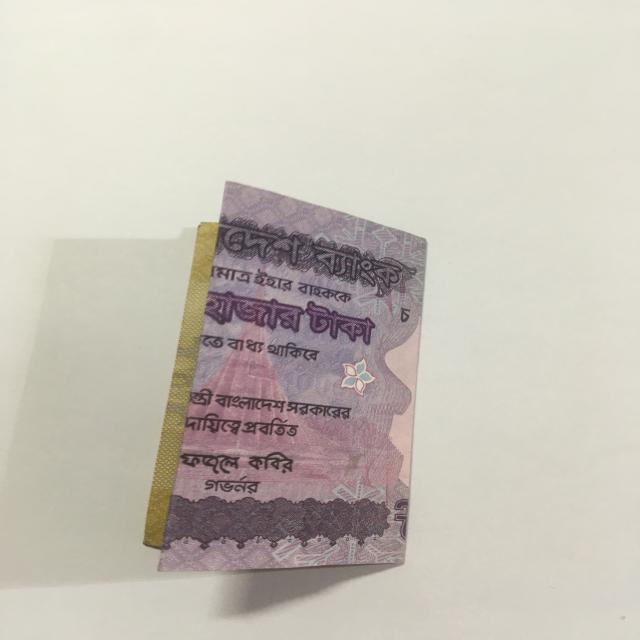Taka: (145, 162, 432, 571)
